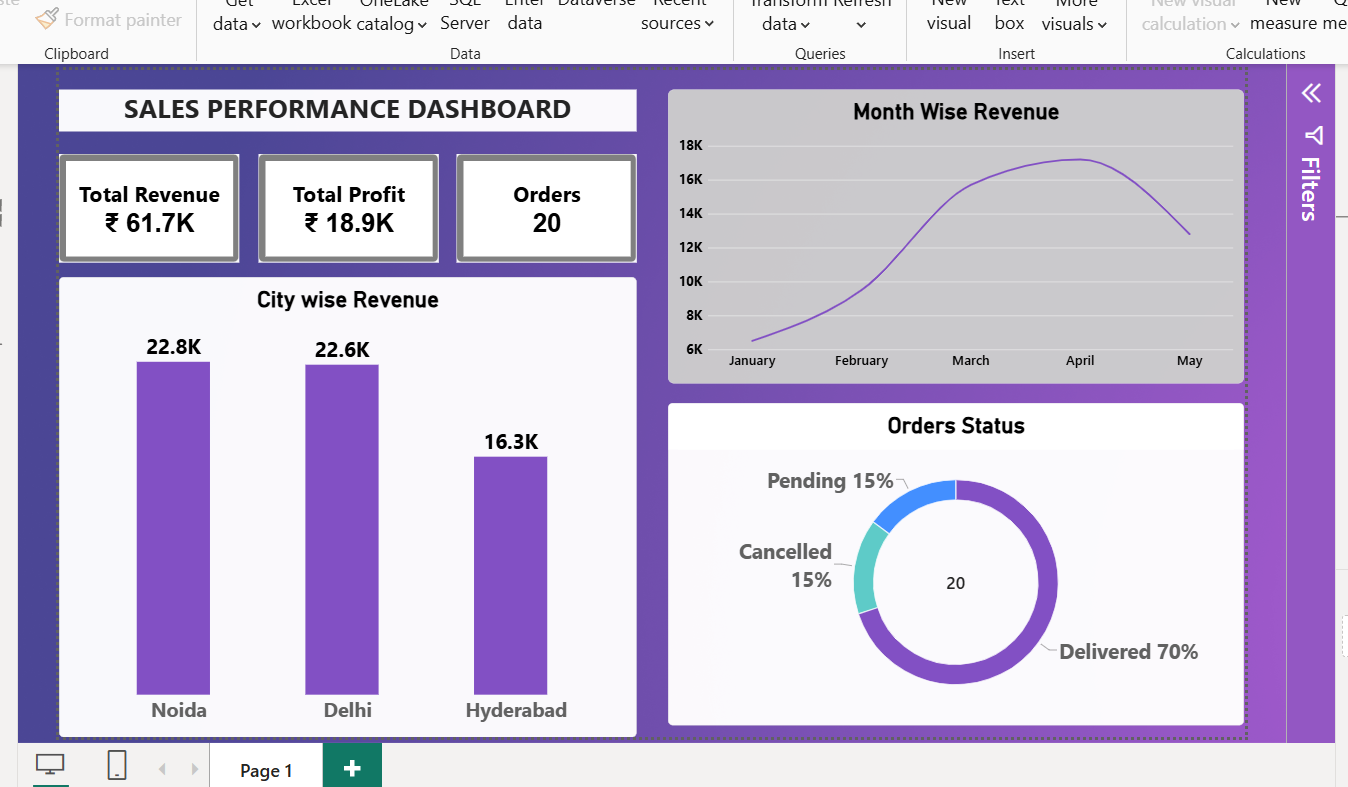

Layout of this report page (visuals, bound fields, positions):
{"tool":"powerbi","page":{"name":"Page 1","canvas":[1920,1080],"ordinal":0},"visuals":[{"type":"cardVisual","fields":{"Data":["SalesData.Total Revenue"]},"box":[0,136,292,175.7],"z":1000},{"type":"columnChart","title":"City wise Revenue","fields":{"Category":["SalesData.City"],"Y":["Sum(SalesData.SalesAmount)"]},"box":[0,335.2,935.1,745.7],"z":3000},{"type":"lineChart","title":"Month Wise Revenue","fields":{"Category":["SalesData.OrderDate.Variation.Date Hierarchy.Year","SalesData.OrderDate.Variation.Date Hierarchy.Month"],"Y":["SalesData.Total Revenue"]},"box":[986.5,31.2,932.6,476.2],"z":4000},{"type":"donutChart","title":"Orders Status","fields":{"Category":["SalesData.Status"],"Y":["CountNonNull(SalesData.Status)"]},"box":[986.1,539.2,932.7,522.2],"z":5000},{"type":"textbox","box":[0,31.6,935.1,68],"z":6000},{"type":"cardVisual","fields":{"Data":["SalesData.Total Profit"]},"box":[323,136,292,175.7],"z":6001},{"type":"cardVisual","fields":{"Data":["SalesData.Orders"]},"box":[643.6,136,292,175.7],"z":6002}]}

Visuals, with their boxes on the page's 1920x1080 design canvas (x1, y1, x2, y2). These are canvas units, not pixel positions in the 1348x787 screenshot, which may show the page scaled, cropped or inside an application window:
cardVisual - SalesData.Total Revenue: {"left": 0, "top": 136, "right": 292, "bottom": 312}
"City wise Revenue" columnChart: {"left": 0, "top": 335, "right": 935, "bottom": 1081}
"Month Wise Revenue" lineChart: {"left": 986, "top": 31, "right": 1919, "bottom": 507}
"Orders Status" donutChart: {"left": 986, "top": 539, "right": 1919, "bottom": 1061}
textbox: {"left": 0, "top": 32, "right": 935, "bottom": 100}
cardVisual - SalesData.Total Profit: {"left": 323, "top": 136, "right": 615, "bottom": 312}
cardVisual - SalesData.Orders: {"left": 644, "top": 136, "right": 936, "bottom": 312}
